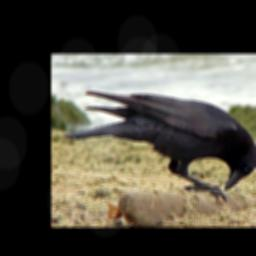Crow: (60, 91, 256, 205)
